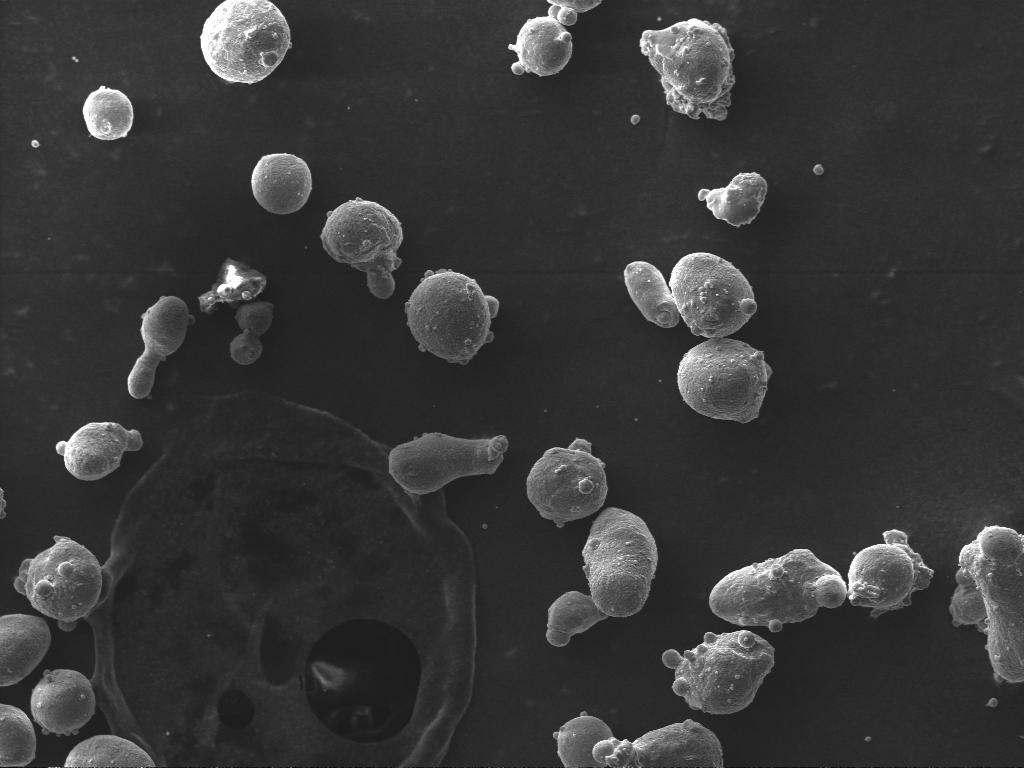Powder: (546, 507, 657, 646), (949, 526, 1023, 683), (709, 549, 846, 631), (640, 18, 734, 120), (662, 630, 773, 713), (405, 269, 498, 364), (14, 536, 101, 630), (321, 198, 402, 298), (677, 338, 771, 422), (200, 0, 290, 83), (848, 530, 933, 617), (669, 253, 756, 337), (388, 433, 507, 493), (526, 438, 607, 526), (508, 0, 601, 75), (127, 296, 194, 398), (592, 718, 723, 768), (56, 422, 142, 480), (30, 669, 95, 735), (198, 258, 266, 313), (624, 261, 680, 327), (251, 153, 311, 214), (698, 173, 766, 226), (0, 614, 50, 686), (554, 711, 612, 768), (64, 735, 155, 767), (230, 301, 273, 364), (83, 86, 133, 139)
